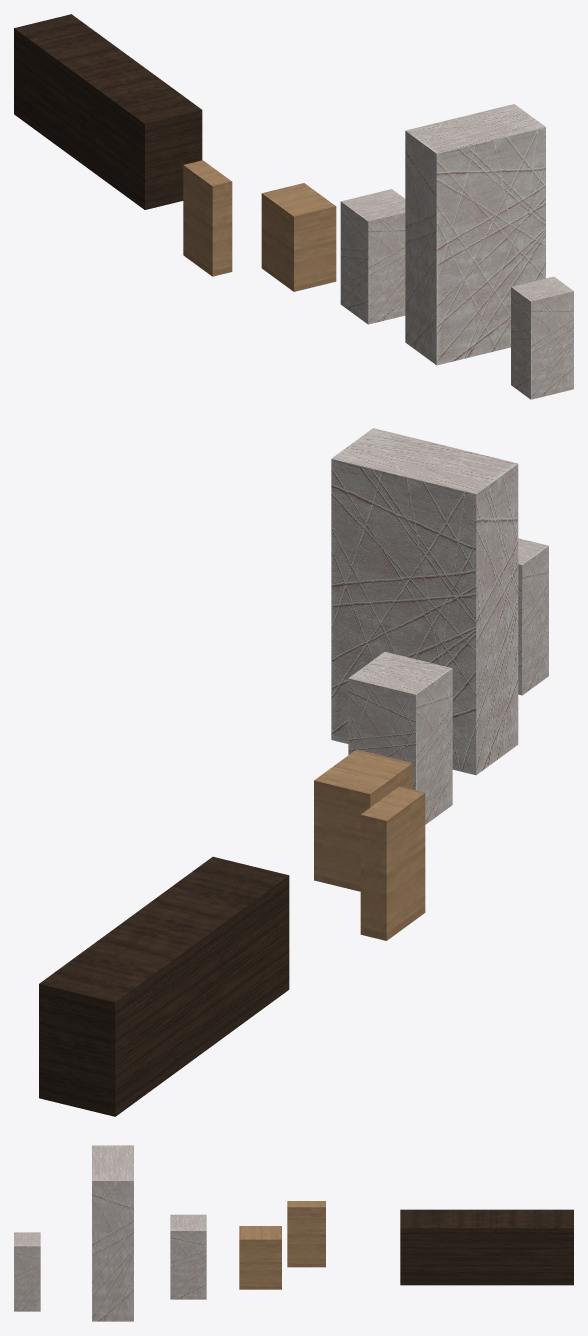
File: ceshi.FBX
3 renders of one model, top to bottom at view 1: azimuth 30°, elevation 25°; view 2: azimuth 150°, elevation 25°; view 3: azimuth 270°, elevation 25°, orthographic. The views are drawn at different scales.
Visible parts, largest first — view 1: c2, a1, c1, b2, c3, b1; view 2: c2, a1, c1, b1, b2, c3; view 3: a1, c2, c1, b2, b1, c3.
Boxes of the visible parts, x1=… form: c2: x1=405, y1=104, x2=545, y2=365; a1: x1=14, y1=14, x2=202, y2=209; c1: x1=340, y1=189, x2=405, y2=324; b2: x1=261, y1=183, x2=336, y2=291; c3: x1=511, y1=276, x2=573, y2=399; b1: x1=183, y1=160, x2=232, y2=276; c2: x1=331, y1=428, x2=518, y2=775; a1: x1=39, y1=856, x2=289, y2=1116; c1: x1=348, y1=652, x2=452, y2=824; b1: x1=360, y1=786, x2=425, y2=940; b2: x1=314, y1=749, x2=412, y2=891; c3: x1=518, y1=538, x2=548, y2=695; a1: x1=400, y1=1209, x2=573, y2=1285; c2: x1=92, y1=1145, x2=133, y2=1321; c1: x1=170, y1=1214, x2=206, y2=1299; b2: x1=239, y1=1226, x2=281, y2=1289; b1: x1=287, y1=1201, x2=325, y2=1267; c3: x1=14, y1=1232, x2=40, y2=1311.
Size of the model in its own units: 33.12 by 35.95 by 130.
Materials: 3 (3 with a texture image).
